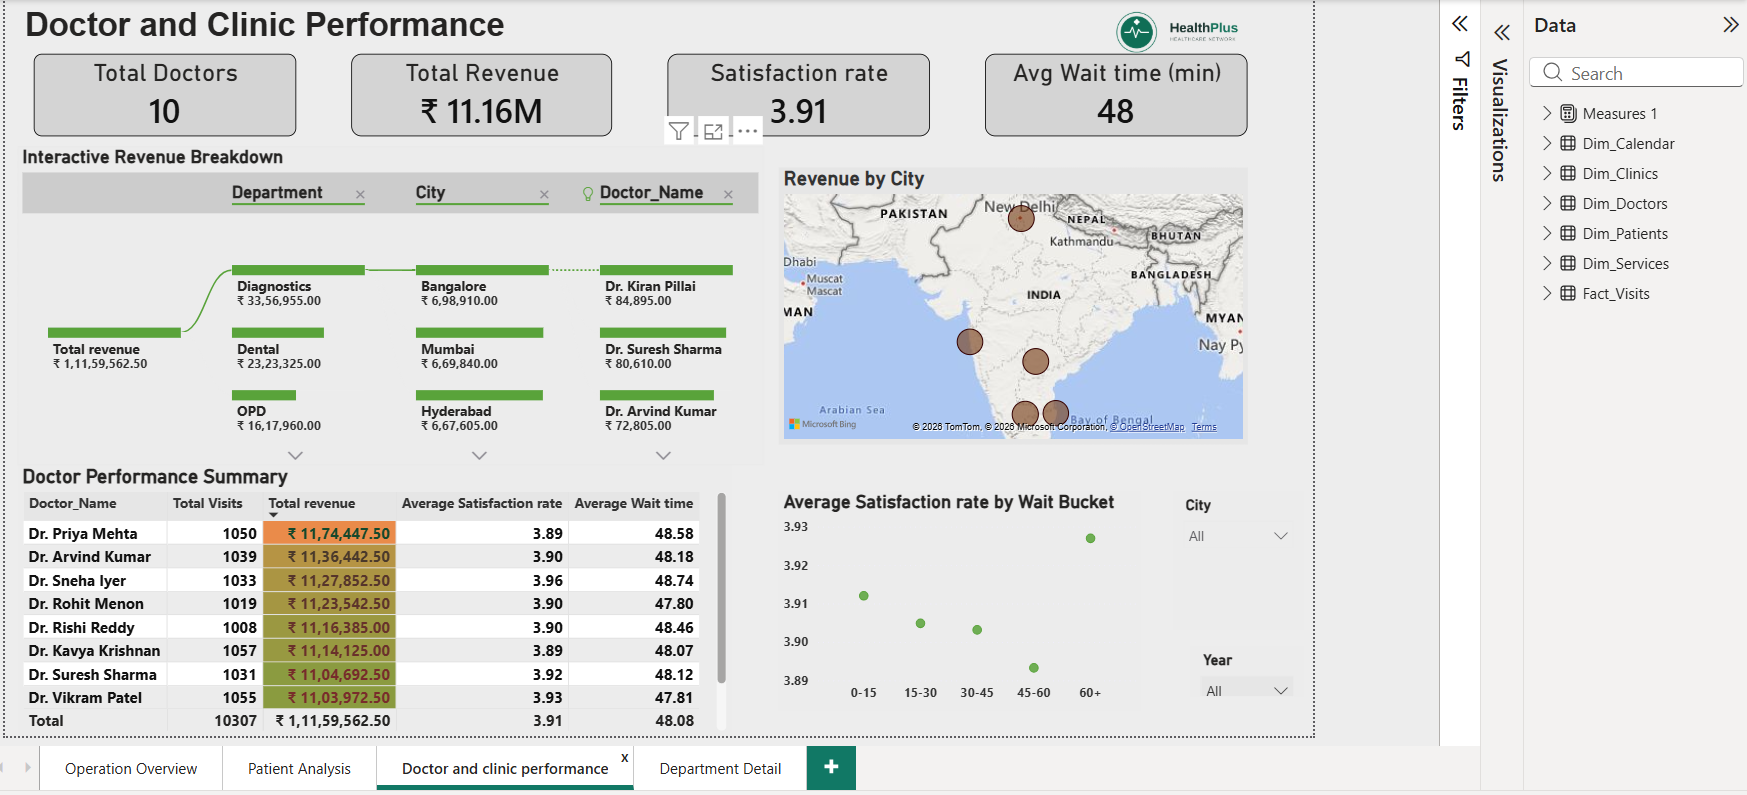

What the dashboard file says about the page in this screenshot:
{"tool":"powerbi","page":{"name":"Doctor and clinic performance","canvas":[1280,720],"ordinal":2},"visuals":[{"type":"cardVisual","title":"Satisfaction rate","fields":{"Data":["Fact_Visits.Average Satisfaction rate"]},"box":[648.1,52.6,256.8,80.7],"z":0},{"type":"cardVisual","title":" Avg Wait time (min)","fields":{"Data":["Dim_Doctors.Average Wait time"]},"box":[958.7,52.6,256.8,80.7],"z":1000},{"type":"cardVisual","title":"Total Doctors","fields":{"Data":["Dim_Doctors.Total doctors"]},"box":[28.1,52.6,256.8,80.7],"z":2000},{"type":"cardVisual","title":"Total Revenue","fields":{"Data":["Fact_Visits.Total revenue"]},"box":[338.7,52.6,255.6,80.7],"z":3000},{"type":"map","title":"Revenue by City","fields":{"Size":["Fact_Visits.Total revenue"],"Category":["Dim_Clinics.City"]},"box":[756.9,163.9,458.6,270.2],"z":4000},{"type":"tableEx","title":"Doctor Performance Summary","fields":{"Values":["Dim_Doctors.Doctor_Name","Fact_Visits.Total Visits","Fact_Visits.Total revenue","Fact_Visits.Average Satisfaction rate","Measures 1.Average Wait time"]},"box":[12.2,454.9,698.2,265.4],"z":5000},{"type":"textbox","box":[0,0,1268.1,62.4],"z":6000},{"type":"decompositionTreeVisual","title":"Interactive Revenue Breakdown","fields":{"ExplainBy":["Dim_Services.Department","Dim_Clinics.City","Dim_Doctors.Doctor_Name"],"Analyze":["Fact_Visits.Total revenue"]},"box":[12.2,143.1,730,311.8],"z":7000},{"type":"slicer","fields":{"Values":["Dim_Calendar.Year"]},"box":[1159.5,632.2,111.3,48.9],"z":8000},{"type":"slicer","fields":{"Values":["Dim_Clinics.City"]},"box":[1142.1,480.6,128.4,135.7],"z":9000},{"type":"scatterChart","fields":{"X":["Fact_Visits.Wait Bucket"],"Y":["Measures 1.Average Satisfaction rate"]},"box":[756.9,480.6,354.6,215.2],"z":10000},{"type":"image","box":[1072.1,0,207.9,63.6],"z":11000}]}

Visuals, with their boxes on the page's 1280x720 design canvas (x1, y1, x2, y2). These are canvas units, not pixel positions in the 1747x795 screenshot, which may show the page scaled, cropped or inside an application window:
"Satisfaction rate" cardVisual: {"left": 648, "top": 53, "right": 905, "bottom": 133}
" Avg Wait time (min)" cardVisual: {"left": 959, "top": 53, "right": 1216, "bottom": 133}
"Total Doctors" cardVisual: {"left": 28, "top": 53, "right": 285, "bottom": 133}
"Total Revenue" cardVisual: {"left": 339, "top": 53, "right": 594, "bottom": 133}
"Revenue by City" map: {"left": 757, "top": 164, "right": 1216, "bottom": 434}
"Doctor Performance Summary" tableEx: {"left": 12, "top": 455, "right": 710, "bottom": 720}
textbox: {"left": 0, "top": 0, "right": 1268, "bottom": 62}
"Interactive Revenue Breakdown" decompositionTreeVisual: {"left": 12, "top": 143, "right": 742, "bottom": 455}
slicer - Dim_Calendar.Year: {"left": 1160, "top": 632, "right": 1271, "bottom": 681}
slicer - Dim_Clinics.City: {"left": 1142, "top": 481, "right": 1270, "bottom": 616}
scatterChart - Fact_Visits.Wait Bucket x Measures 1.Average Satisfaction rate: {"left": 757, "top": 481, "right": 1112, "bottom": 696}
image: {"left": 1072, "top": 0, "right": 1280, "bottom": 64}
